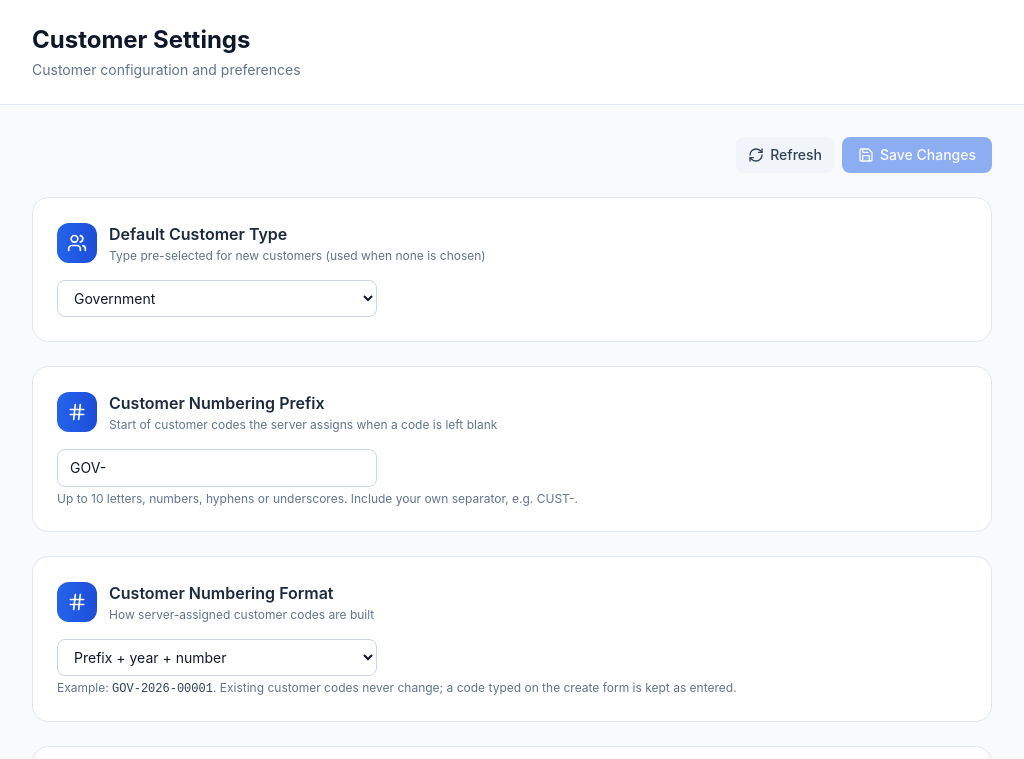
Test case: BUG-13 Customer Settings controls › a failed save keeps the edits and shows the server's message
Replace the text in the field labelled "Customer Numbering Prefix" with "ABC-". click: (217,468)
box: [57,449,377,487]
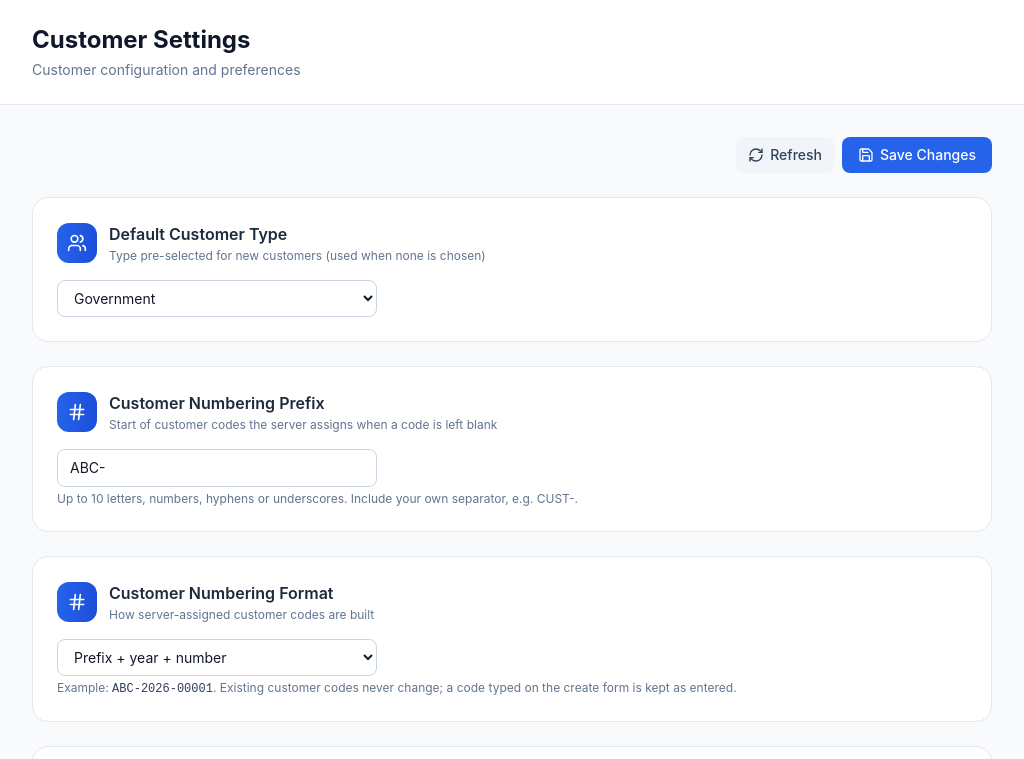
Click the button "Save Changes". click: (917,155)
box: [842,137,992,173]
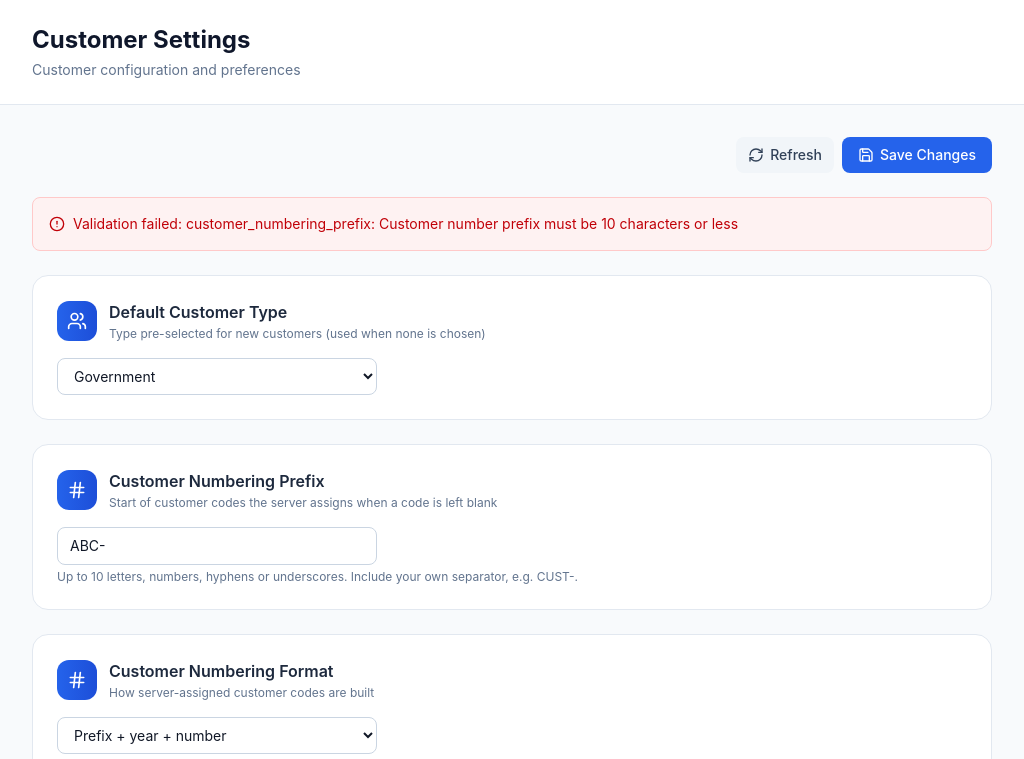
Expected: the text "Customer number prefix must be 10 characters or less" is shown, [73,215,738,232]
